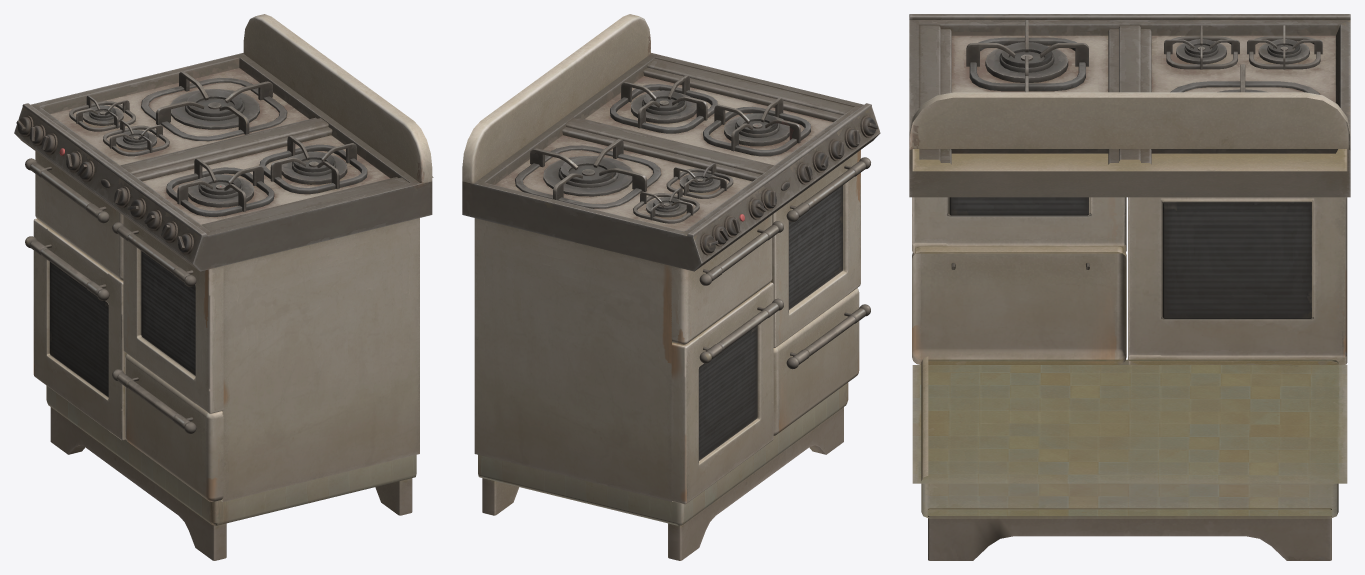
Rendered from SM_Stove.fbx.
3 renders of one model, left to right at view 1: azimuth 30°, elevation 25°; view 2: azimuth 150°, elevation 25°; view 3: azimuth 270°, elevation 25°, orthographic. The views are drawn at different scales.
Visible parts, largest first — view 1: SM_Stove_LOD0; view 2: SM_Stove_LOD0; view 3: SM_Stove_LOD0.
Part boxes in pixels (x1=…): SM_Stove_LOD0: x1=14, y1=14, x2=433, y2=560; SM_Stove_LOD0: x1=462, y1=14, x2=880, y2=560; SM_Stove_LOD0: x1=909, y1=14, x2=1350, y2=560.
Bounding box in the file's own units: 82.47 × 102 × 120.
1 material, 1 textured.
